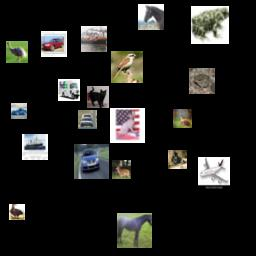airplane: (198, 157, 230, 189)
automobile: (74, 144, 109, 179), (41, 31, 67, 57), (78, 110, 97, 129), (11, 103, 27, 119)
bird: (111, 51, 143, 83), (6, 41, 28, 63), (9, 204, 25, 220)
cat: (110, 108, 145, 143), (87, 86, 109, 108), (168, 150, 187, 169)
deer: (112, 160, 131, 179), (173, 109, 192, 128)
frog: (191, 6, 229, 44), (189, 68, 215, 94)
ship: (22, 134, 48, 160), (81, 26, 107, 52)
truck: (58, 79, 80, 101)
